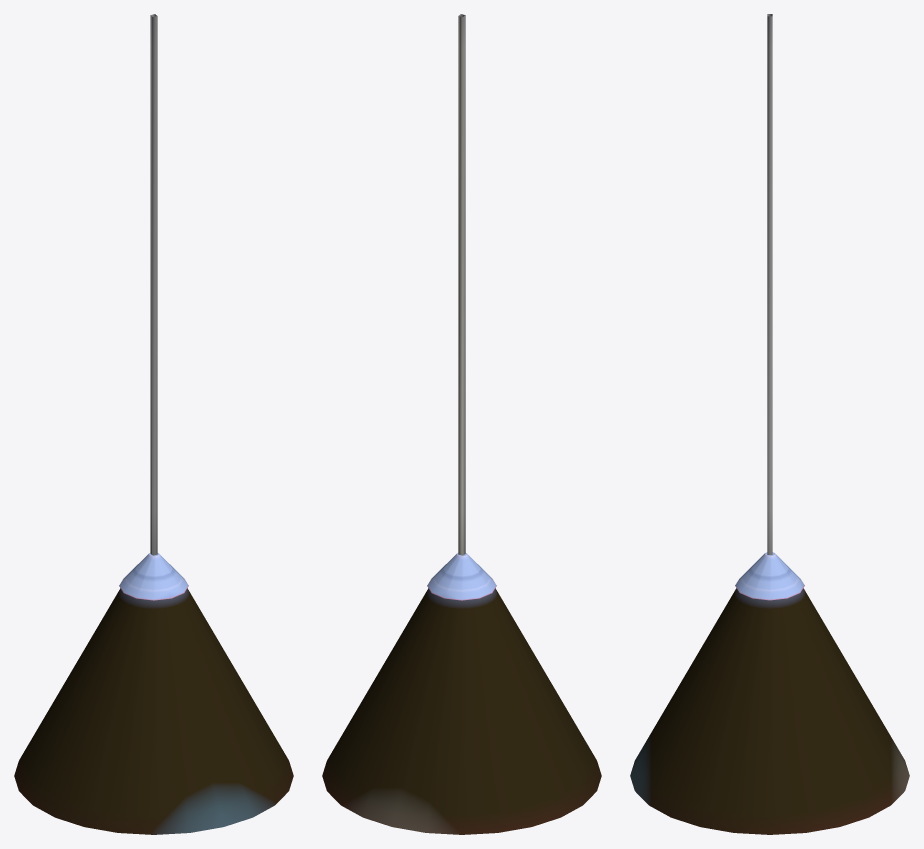
The model's file is teen26.gltf.
3 renders of one model, left to right at view 1: azimuth 30°, elevation 25°; view 2: azimuth 150°, elevation 25°; view 3: azimuth 270°, elevation 25°, orthographic.
Visible parts, largest first — view 1: teen26; view 2: teen26; view 3: teen26.
Part boxes in pixels (bbox=[...]): teen26: bbox=[14, 14, 293, 834]; teen26: bbox=[322, 14, 601, 834]; teen26: bbox=[630, 14, 909, 834].
Size of the model in its own units: 80 by 240 by 80.
Materials: 2 (2 with a texture image).
